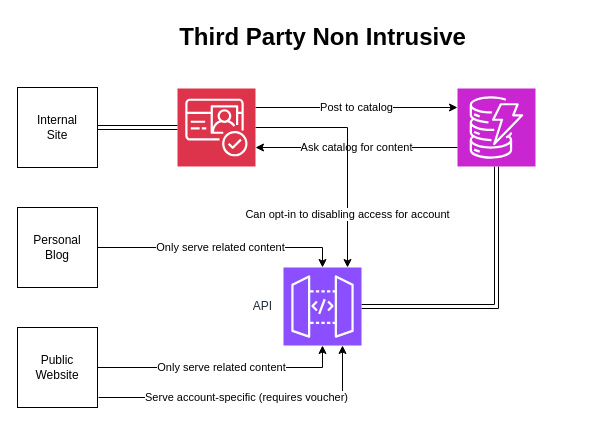
Image size: 607x425. Some labels were removed from this diagram. The shapes that lost their labels are listed below. From the top down, each one's centre as x and y in pixels, then its label:
At (x=216, y=127): "Accounts".
At (x=496, y=127): "Content Catalog".
